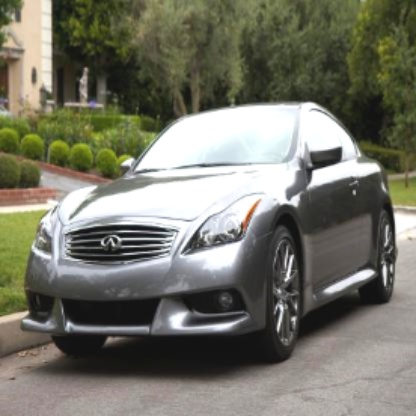Vehicle: (21, 101, 396, 359)
